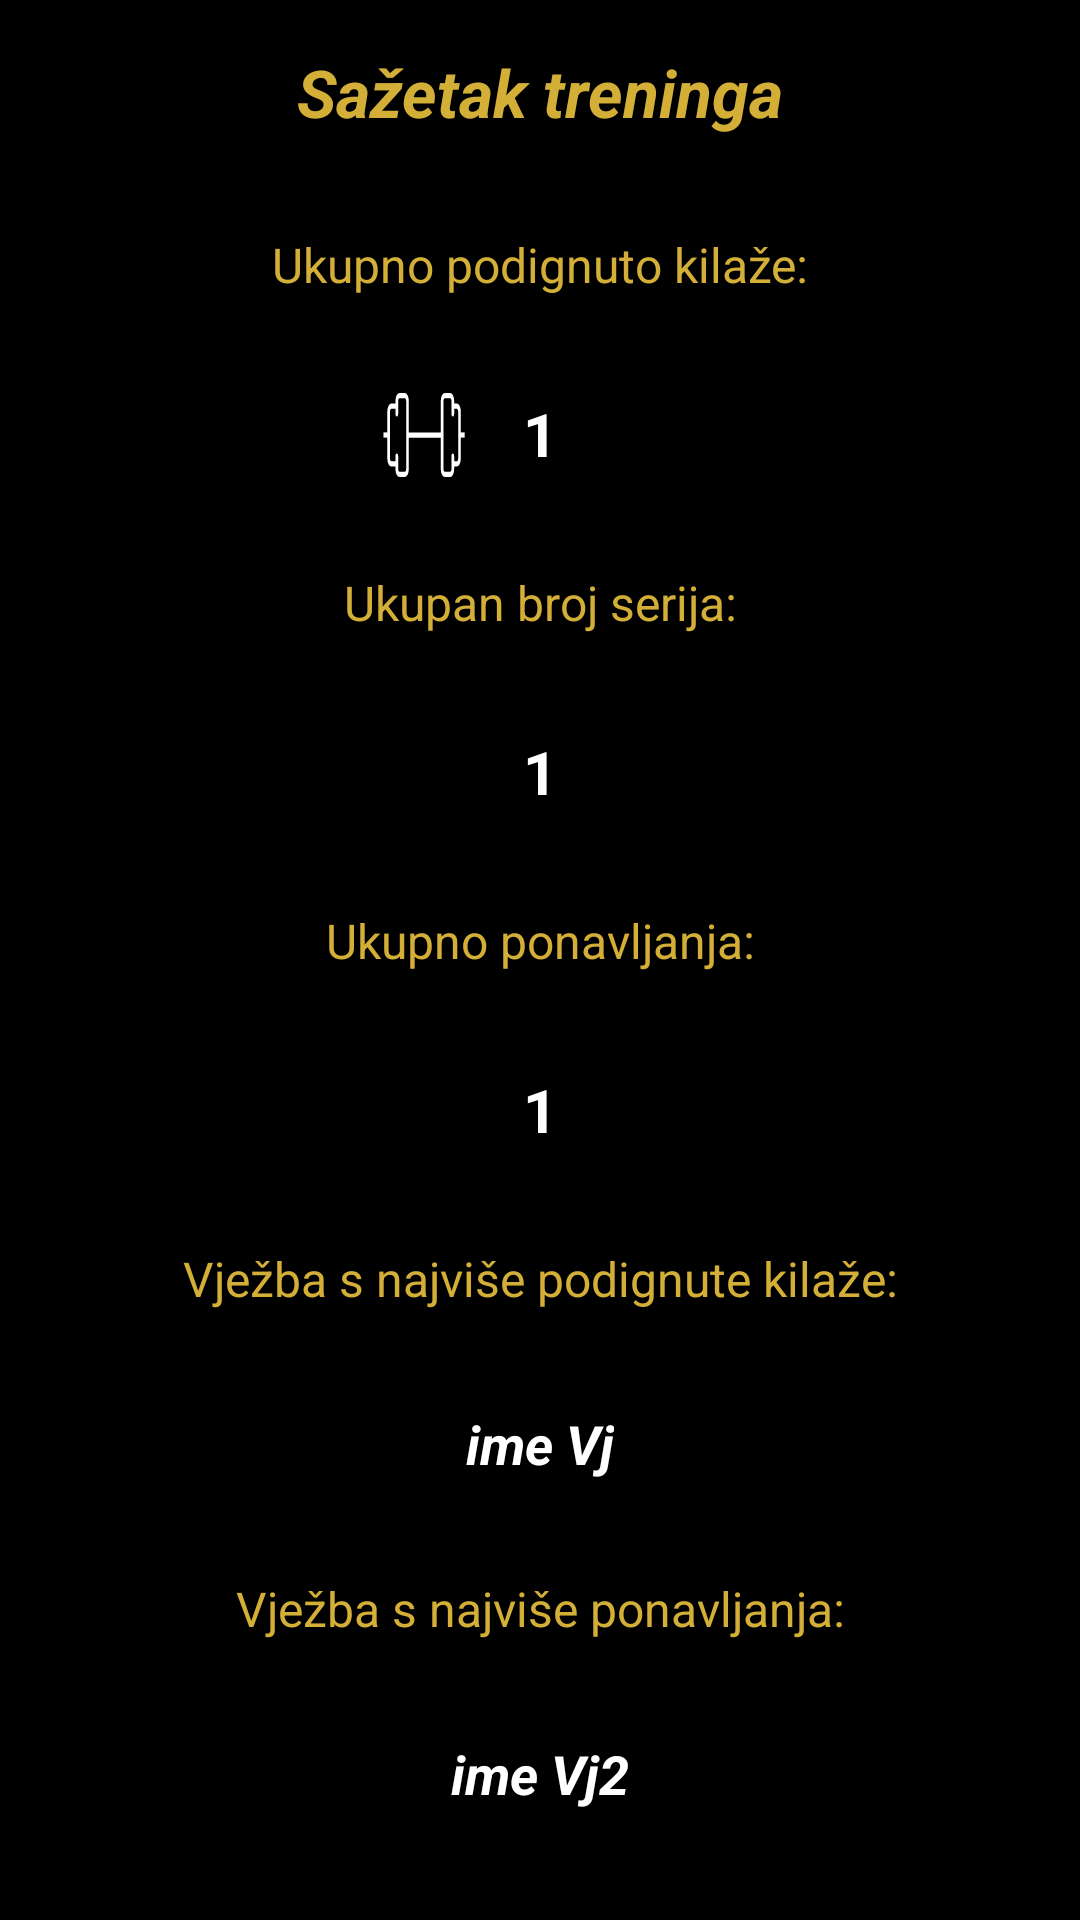

Icons on this 1080w x 1920h Android screen, each with its box as (x1, y1, x2, y2):
weight: (383, 393, 465, 477)
